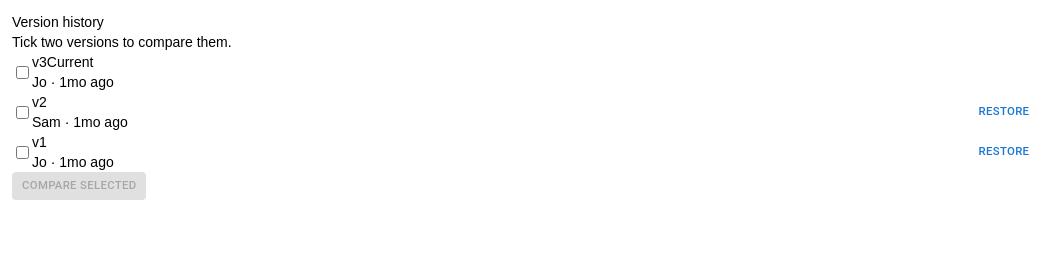
Test case: JL-109 compare › surfaces a compare failure
The width and height of the screenshot is (1048, 265).
Expected: the text "v3" is shown, [32,54,94,70]
Click the checkbox named "Select version 1 to compare": (22, 152) [16,146,29,158]
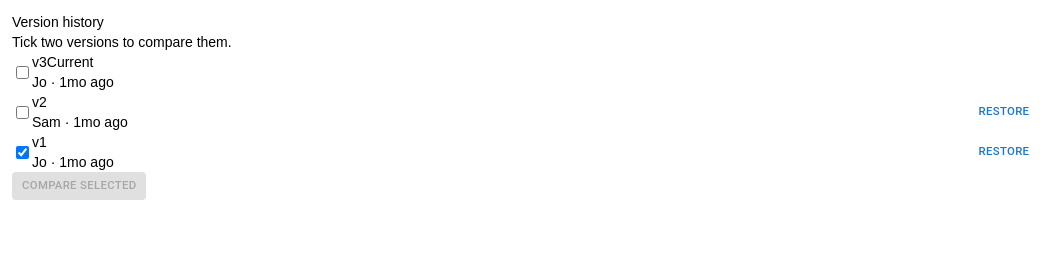
Click the checkbox named "Select version 3 to compare": (22, 72) [16,66,29,78]
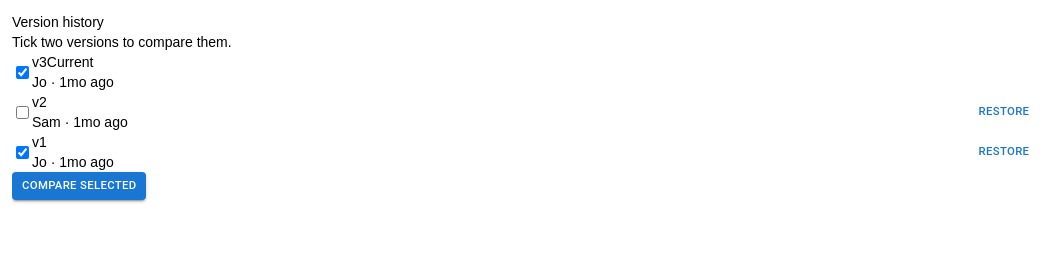
Click the button "Compare selected": (79, 186) [12,172,146,200]
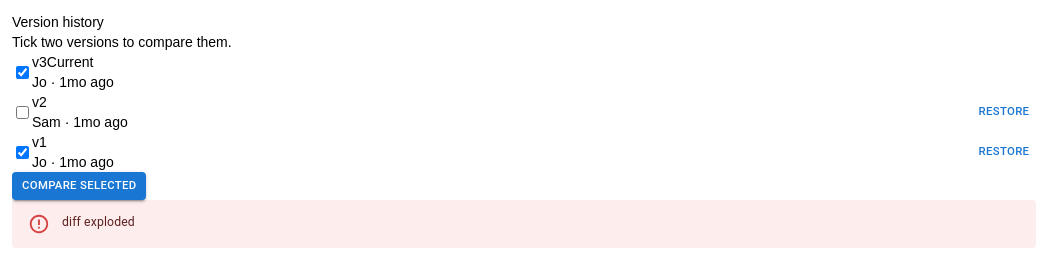
Result: the text "diff exploded" is shown at [62,215,135,229]
